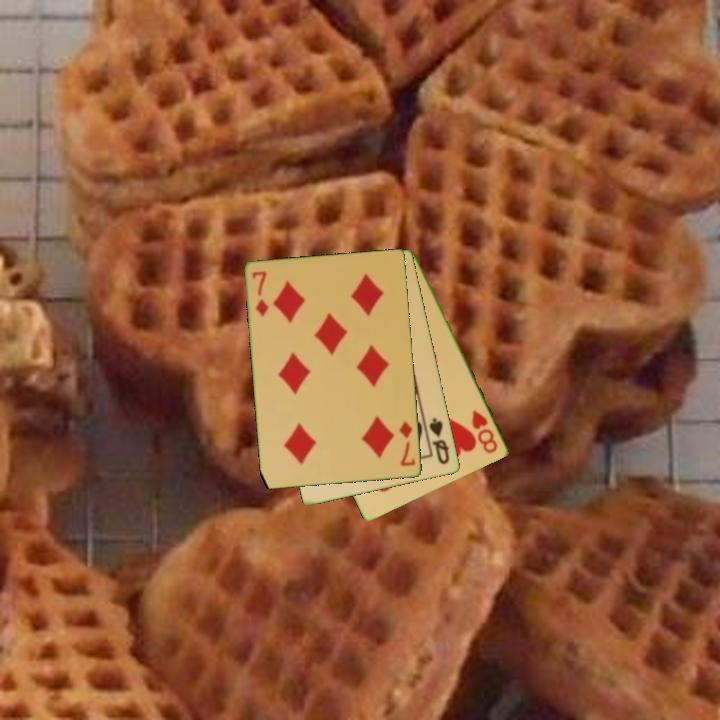7d: (249, 268, 272, 319), (396, 418, 418, 469)
8h: (468, 406, 501, 456)
Qs: (426, 414, 453, 467)
